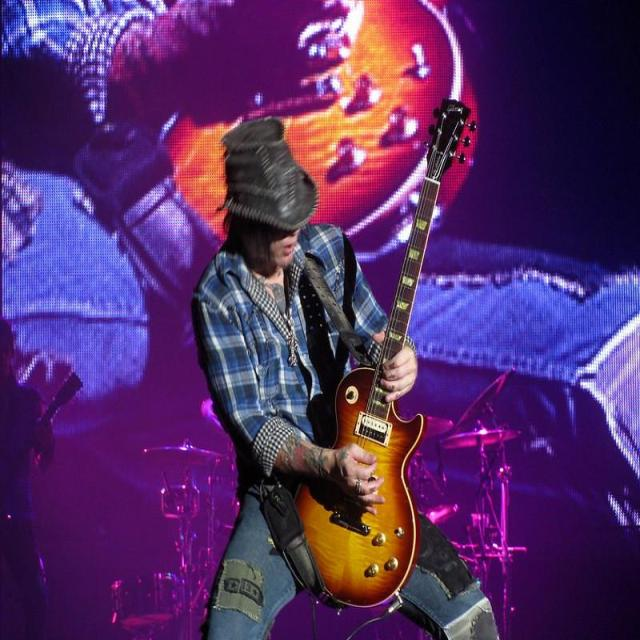guitar: (296, 100, 469, 606)
